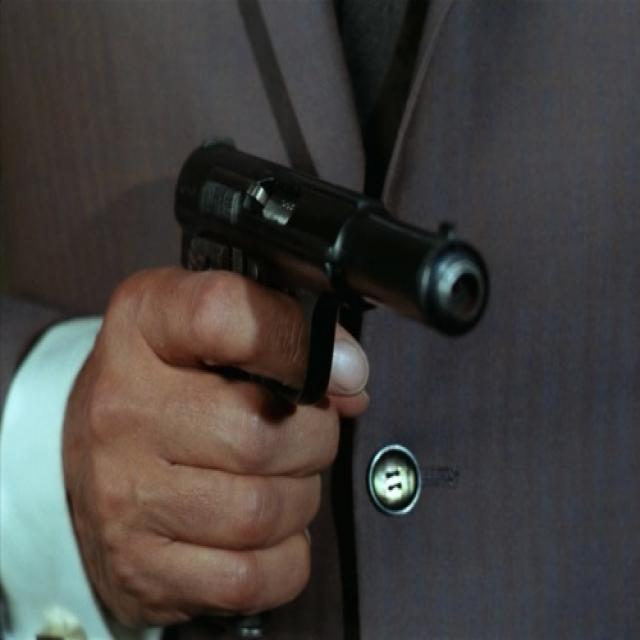weapons: (123, 90, 494, 586)
